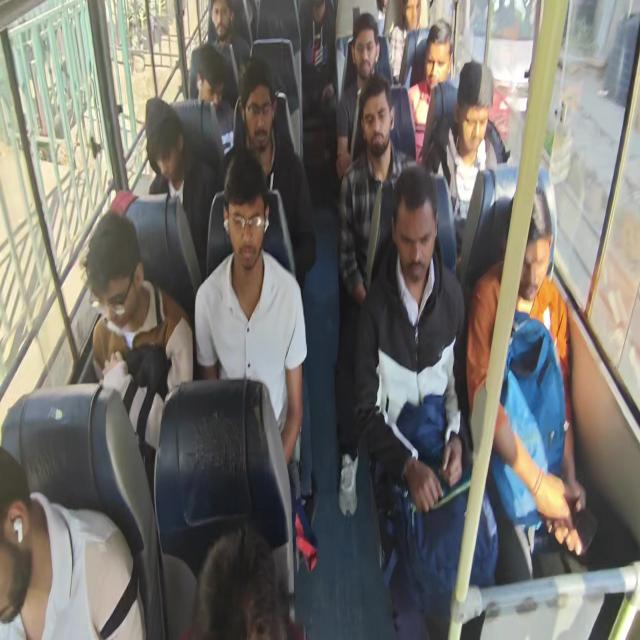person: (353, 165, 499, 637), (466, 182, 586, 576), (194, 148, 308, 498), (334, 73, 417, 516), (81, 209, 194, 499), (0, 445, 146, 638), (222, 58, 316, 295), (420, 60, 509, 253), (144, 96, 220, 279), (185, 526, 298, 639), (335, 12, 393, 179), (298, 0, 337, 202), (406, 19, 458, 163), (190, 0, 250, 107), (195, 44, 235, 154), (387, 0, 428, 83), (207, 0, 250, 75)
